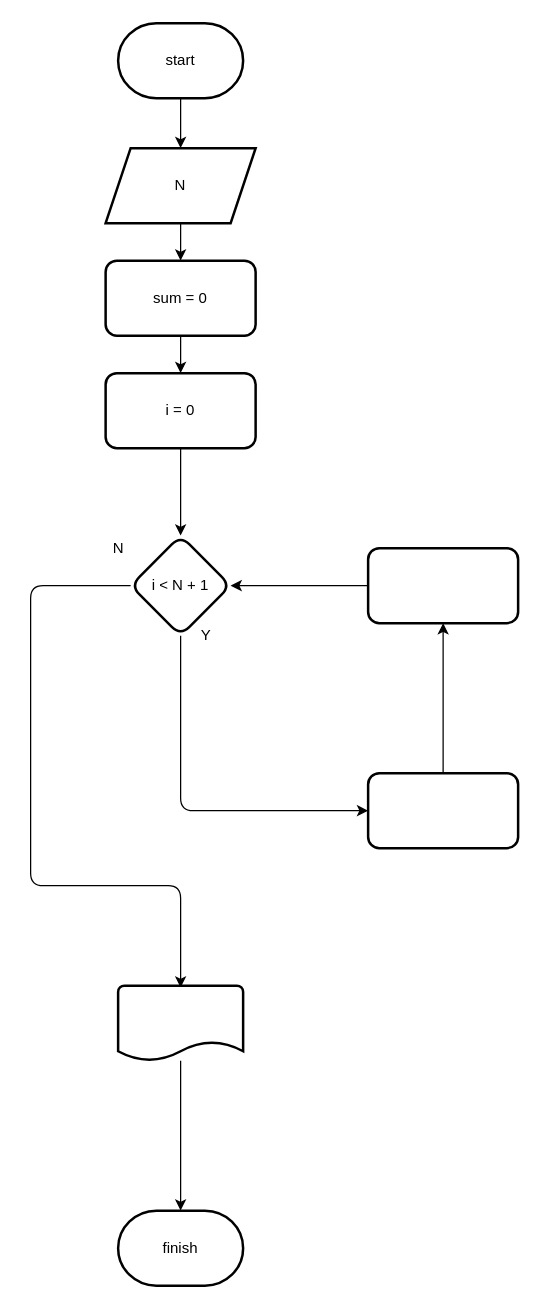
The diagram is 541 pixels wide and 1308 high, and some of its shapes have lost their labels. Here are the shapes that lost their labels. From the top down, the centre of each, then its label:
At point 442,585: "i += 1".
At point 442,810: "sum += i".
At point 180,1022: "sum".
